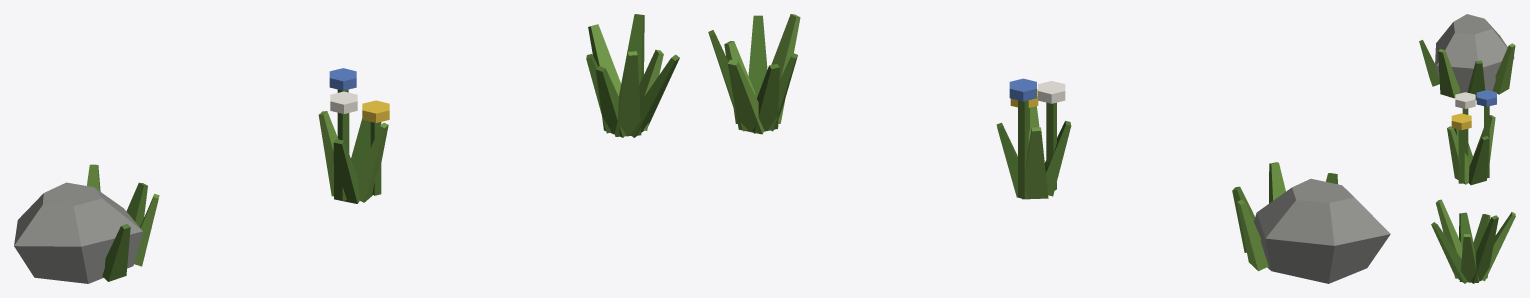
The model's file is FMS_Mach_Demo_GrassTufts.fbx.
The picture shows the model from 3 angles, left to right: view 1: azimuth 30°, elevation 25°; view 2: azimuth 150°, elevation 25°; view 3: azimuth 270°, elevation 25°; orthographic projection. The views are drawn at different scales.
Visible parts, largest first — view 1: Tuft_Rock, Tuft_Flowers, Tuft_Grass; view 2: Tuft_Rock, Tuft_Grass, Tuft_Flowers; view 3: Tuft_Rock, Tuft_Grass, Tuft_Flowers.
Boxes of the visible parts, left/top/right/bottom form: Tuft_Rock: left=14, top=164, right=159, bottom=283; Tuft_Flowers: left=318, top=68, right=389, bottom=203; Tuft_Grass: left=586, top=14, right=679, bottom=137; Tuft_Rock: left=1232, top=162, right=1390, bottom=283; Tuft_Grass: left=708, top=14, right=800, bottom=134; Tuft_Flowers: left=996, top=78, right=1071, bottom=199; Tuft_Rock: left=1419, top=14, right=1515, bottom=100; Tuft_Grass: left=1431, top=199, right=1515, bottom=283; Tuft_Flowers: left=1447, top=90, right=1496, bottom=185.
Size of the model in its own units: 2.88 by 0.479 by 0.499.
1 material, 1 textured.
